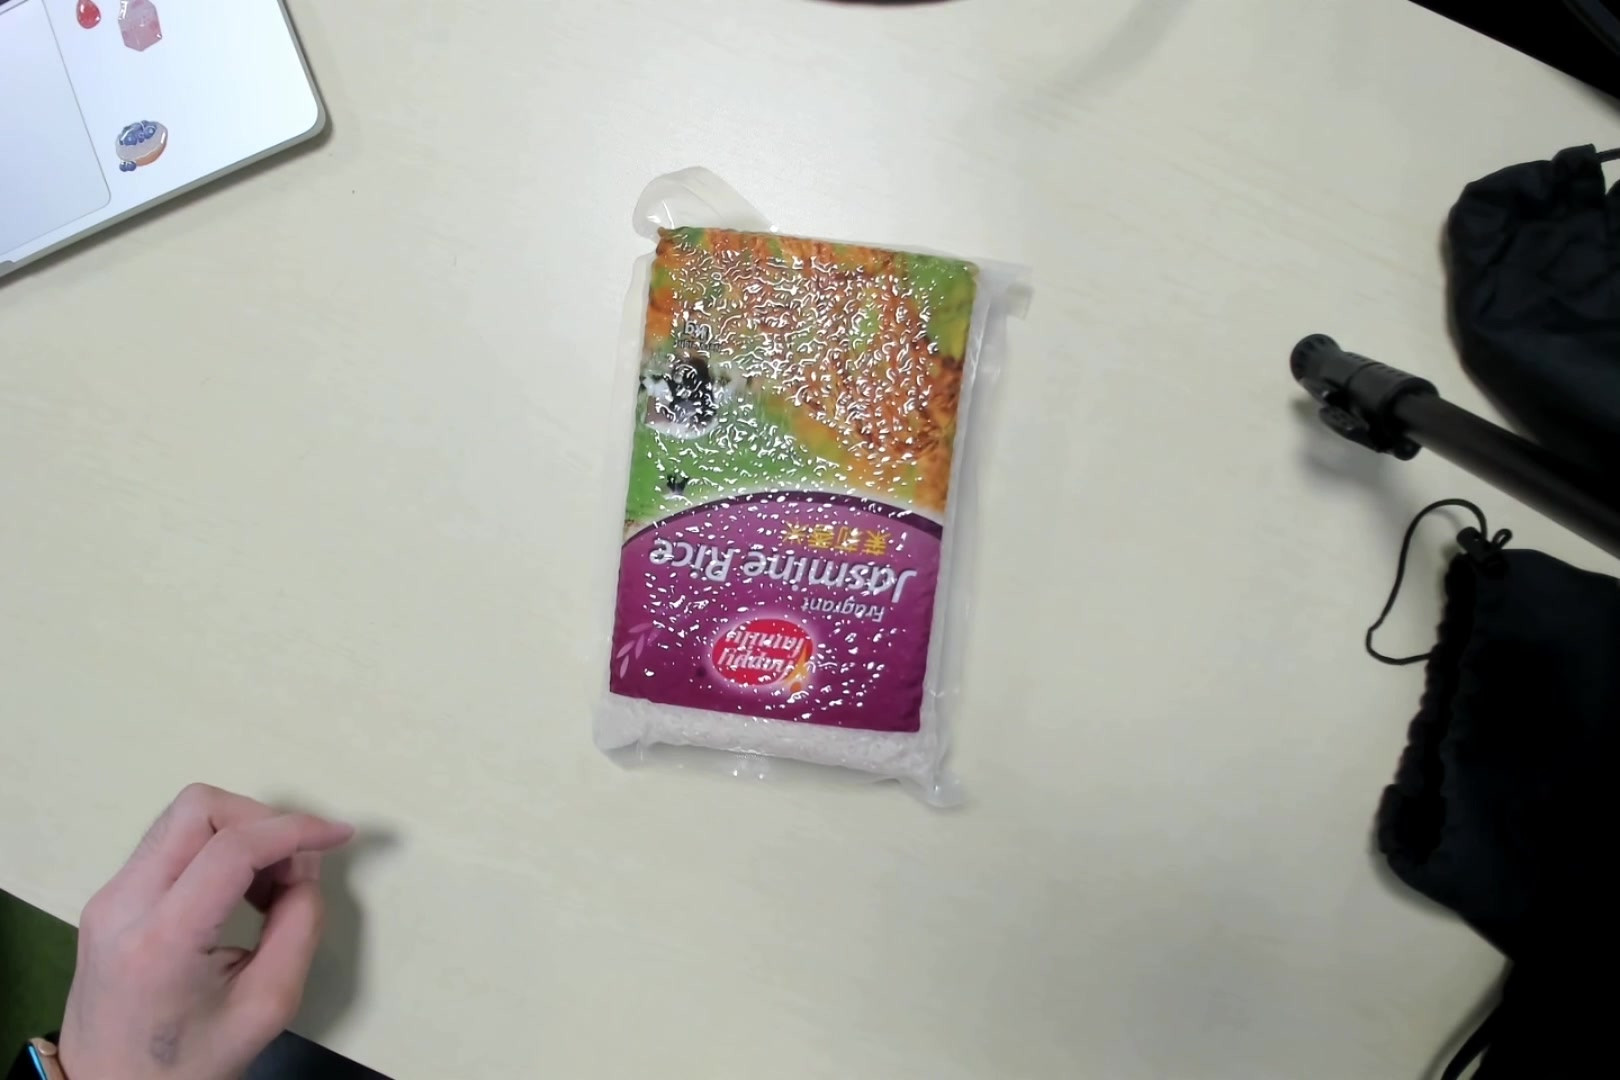Rice(White)_1000-1999g_NonHalal_NonHealthy: (622, 188, 998, 782)
